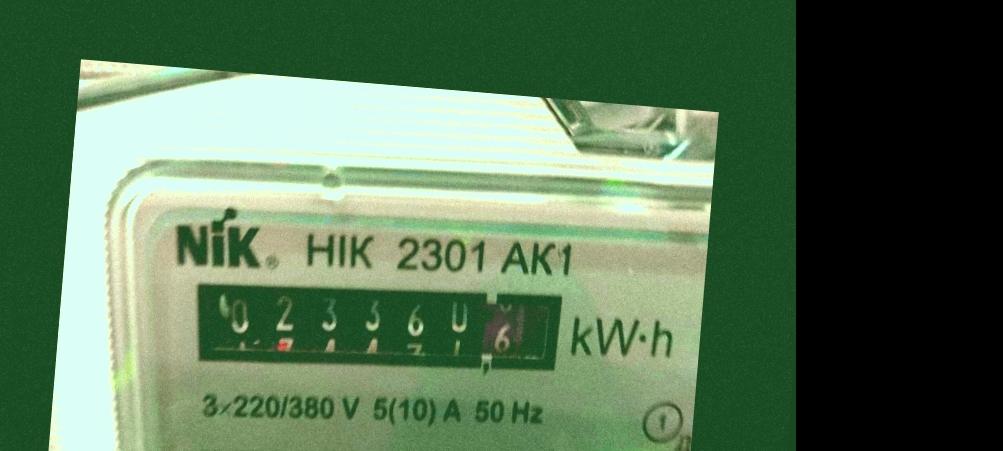0: (225, 292, 253, 336), (445, 295, 471, 334)
2: (269, 290, 298, 332)
3: (358, 293, 383, 333), (316, 292, 340, 333)
6: (400, 297, 429, 340), (491, 318, 515, 356)
screen: (168, 249, 577, 400)
